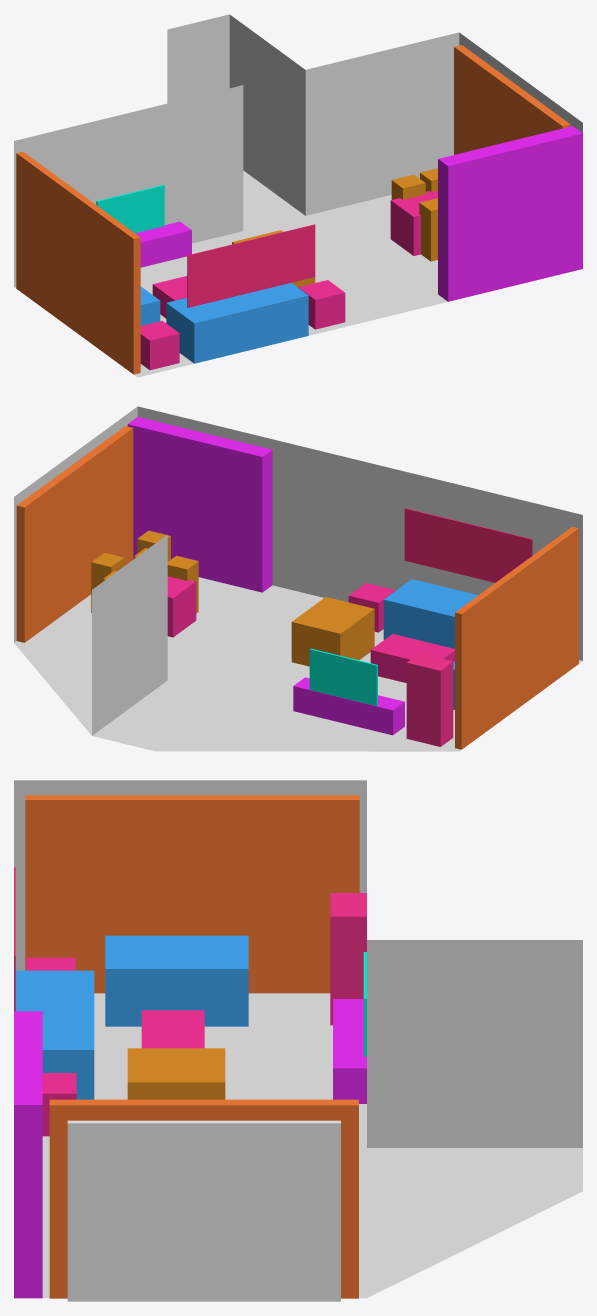
The model's file is livingroom_8013_input.glb.
3 renders of one model, top to bottom at view 1: azimuth 30°, elevation 25°; view 2: azimuth 150°, elevation 25°; view 3: azimuth 270°, elevation 25°, orthographic. The views are drawn at different scales.
Visible parts, largest first — view 1: background-volfusion-it5250-test, BBox_0017_cabinet, BBox_0001_curtain, BBox_0015_sofa, BBox_0016_curtain, BBox_0000_painting, BBox_0019_television receiver, BBox_0002_cabinet, BBox_0012_table, BBox_0011_table, BBox_0010_table, BBox_0006_chair (+3 smaller); view 2: background-volfusion-it5250-test, BBox_0017_cabinet, BBox_0001_curtain, BBox_0016_curtain, BBox_0000_painting, BBox_0014_chair, BBox_0015_sofa, BBox_0020_shelf, BBox_0002_cabinet, BBox_0019_television receiver, BBox_0003_table, BBox_0012_table (+4 smaller); view 3: background-volfusion-it5250-test, BBox_0001_curtain, BBox_0018_windowpane, BBox_0016_curtain, BBox_0013_sofa, BBox_0017_cabinet, BBox_0015_sofa, BBox_0014_chair, BBox_0020_shelf, BBox_0002_cabinet, BBox_0003_table, BBox_0010_table (+1 smaller).
Boxes of the visible parts, box(x1,y1,x2,y2) form: background-volfusion-it5250-test: box(14, 14, 582, 377); BBox_0017_cabinet: box(438, 126, 582, 301); BBox_0001_curtain: box(16, 151, 140, 374); BBox_0015_sofa: box(166, 283, 308, 363); BBox_0016_curtain: box(454, 45, 570, 154); BBox_0000_painting: box(187, 224, 315, 307); BBox_0019_television receiver: box(96, 184, 164, 233); BBox_0002_cabinet: box(135, 221, 191, 267); BBox_0012_table: box(390, 191, 437, 255); BBox_0011_table: box(140, 320, 179, 370); BBox_0010_table: box(298, 280, 345, 329); BBox_0006_chair: box(419, 198, 437, 261); background-volfusion-it5250-test: box(14, 406, 582, 751); BBox_0017_cabinet: box(127, 417, 272, 592); BBox_0001_curtain: box(455, 526, 578, 749); BBox_0016_curtain: box(16, 426, 133, 642); BBox_0000_painting: box(404, 508, 532, 582); BBox_0014_chair: box(291, 597, 374, 666); BBox_0015_sofa: box(383, 579, 478, 648); BBox_0020_shelf: box(406, 653, 453, 746); BBox_0002_cabinet: box(293, 677, 404, 735); BBox_0019_television receiver: box(309, 648, 377, 706); BBox_0003_table: box(370, 634, 454, 682); BBox_0012_table: box(167, 576, 196, 637); background-volfusion-it5250-test: box(14, 780, 582, 1298); BBox_0001_curtain: box(25, 795, 359, 993); BBox_0018_windowpane: box(67, 1120, 340, 1301); BBox_0016_curtain: box(49, 1099, 358, 1298); BBox_0013_sofa: box(105, 935, 248, 1026); BBox_0017_cabinet: box(14, 1011, 42, 1298); BBox_0015_sofa: box(15, 970, 94, 1099); BBox_0014_chair: box(127, 1048, 225, 1099); BBox_0020_shelf: box(330, 893, 366, 1025); BBox_0002_cabinet: box(333, 999, 366, 1103); BBox_0003_table: box(141, 1010, 204, 1048); BBox_0010_table: box(42, 1073, 76, 1136).
Bounding box in the file's own units: 9.03 × 2.8 × 6.93.
